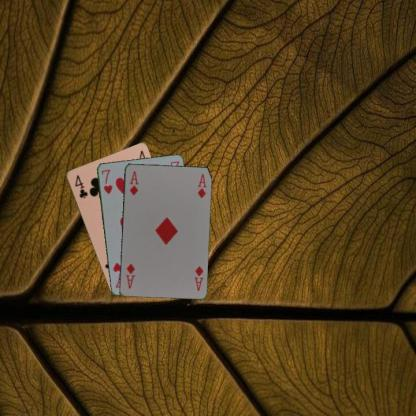4c: (72, 172, 89, 200)
7h: (99, 167, 113, 195)
Ad: (126, 168, 140, 197), (191, 263, 205, 292)
